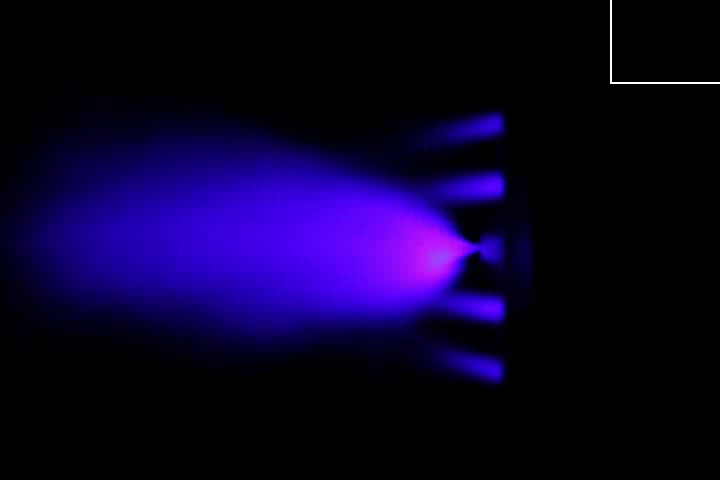burner cap: (481, 235, 508, 265)
pilot flame: (416, 336, 504, 384), (421, 168, 514, 202), (429, 111, 501, 148), (433, 294, 515, 324)
unstable: (386, 210, 482, 288)
